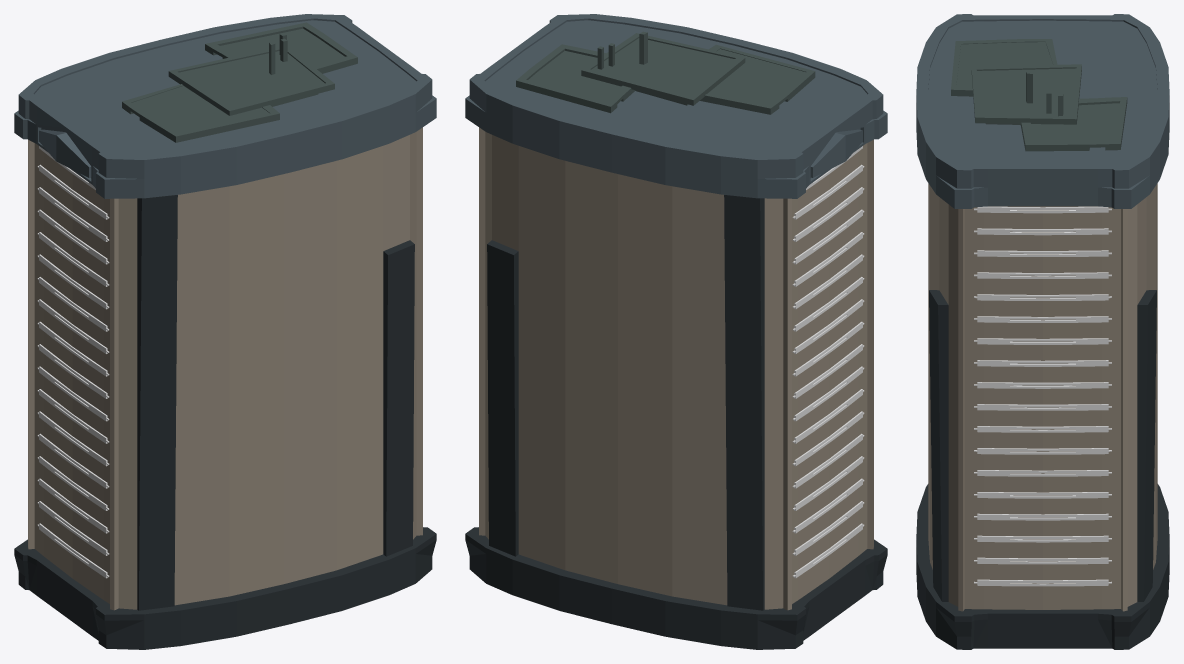
The model's file is building_65.fbx.
The picture shows the model from 3 angles, left to right: view 1: azimuth 30°, elevation 25°; view 2: azimuth 150°, elevation 25°; view 3: azimuth 270°, elevation 25°; orthographic projection. The views are drawn at different scales.
Visible parts, largest first — view 1: building_65; view 2: building_65; view 3: building_65.
Boxes of the visible parts, x1,y1,x2,y2 form: building_65: (14, 14, 436, 649); building_65: (465, 14, 887, 649); building_65: (916, 14, 1169, 649).
Bounding box in the file's own units: 1323 × 1995 × 884.
